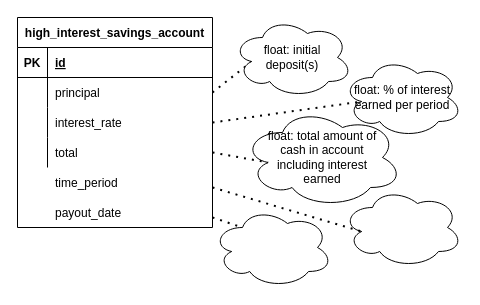
Image size: 480x305. Some labels were removed from this diagram. Here are the shapes that lost their labels. From the top down, the centre of each, then its label:
point 272,247: date: calendar date that interest is paid out
point 402,227: float: duration of period that interest is calculated for
